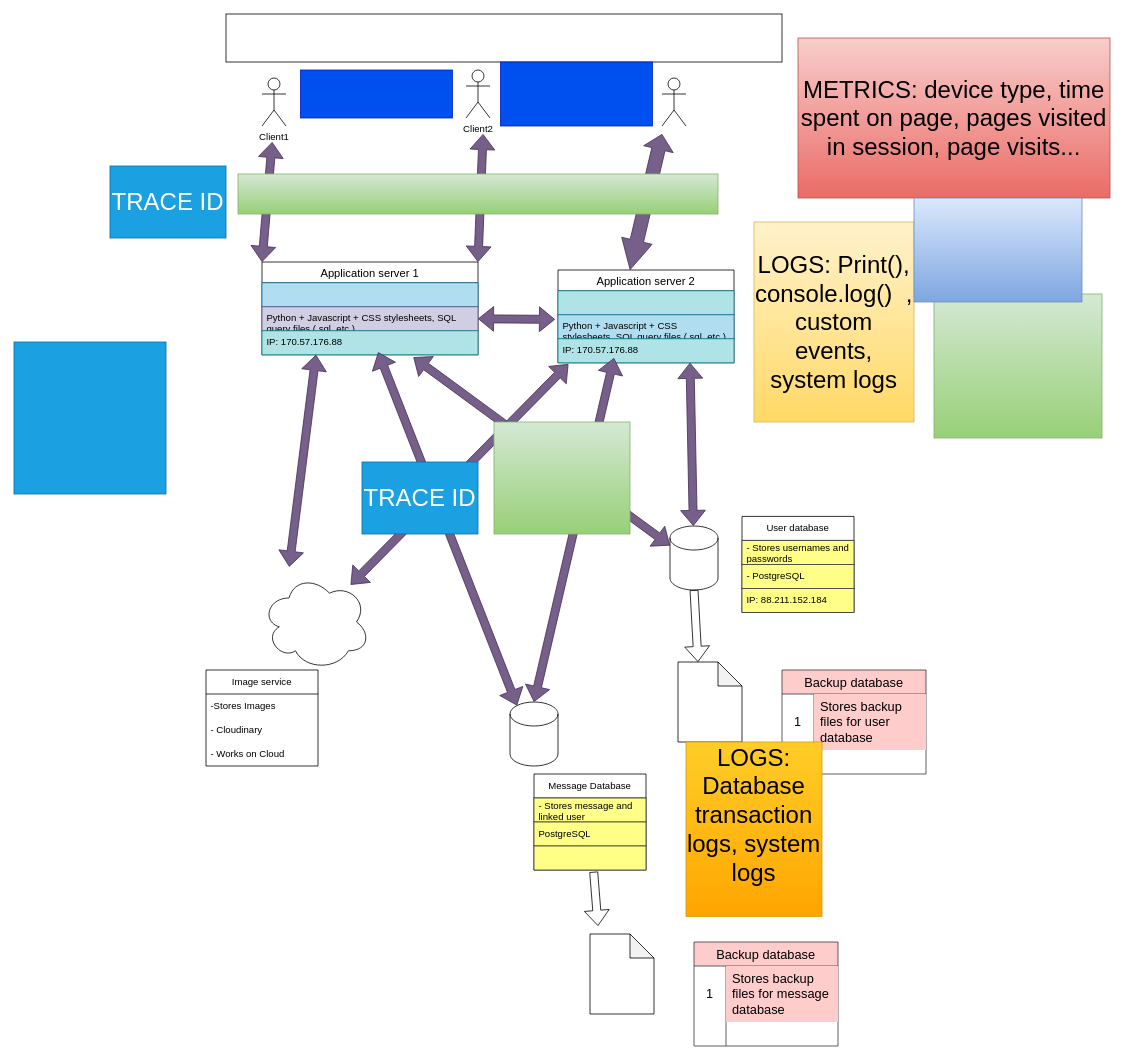
The diagram is 1124 pixels wide and 1060 high, and some of its shapes have lost their labels. Here are the shapes that lost their labels. From the top down, the centre of each, then its label:
At (x=503, y=37): "NORDIC ONLINE DISCUSSION PLATFORM".
At (x=376, y=93): "IP ADDRESS".
At (x=576, y=93): "User Agent: BROWSER + OS".
At (x=673, y=101): "Client3".
At (x=477, y=193): "TRACES: HTTP REQUESTS/RESPONSES".
At (x=997, y=249): "PARENT ID".
At (x=369, y=294): "Self hosted, located in Stockholm, Linux (Ubuntu)".
At (x=645, y=302): "Self hosted, located in Helsinki, Linux (Ubuntu)".
At (x=1017, y=365): "TRACES: FUNCTION CALLS (Javascript and Python functions)".
At (x=89, y=417): "LEVEL: OFF, FATAL, ERROR, WARNING, INFO, TRACE, DEBUG".
At (x=561, y=477): "TRACES: DATABASE QUERIES".
At (x=589, y=857): "IP: 255.186.179.197".
